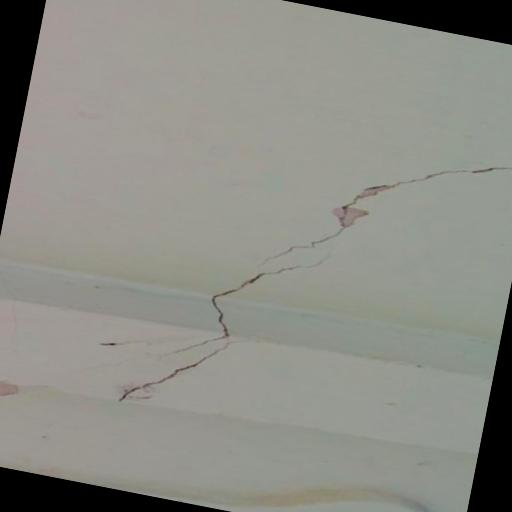spalling: (257, 160, 512, 266), (111, 271, 306, 404)
